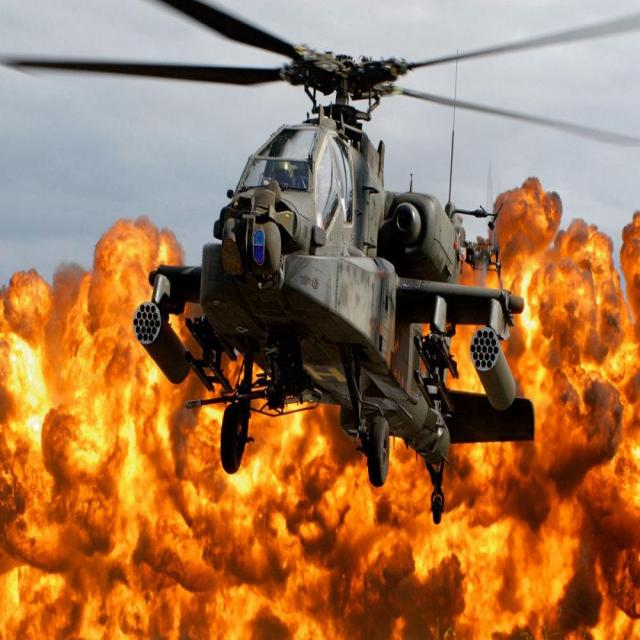MIL_HELO: (6, 0, 631, 544)
